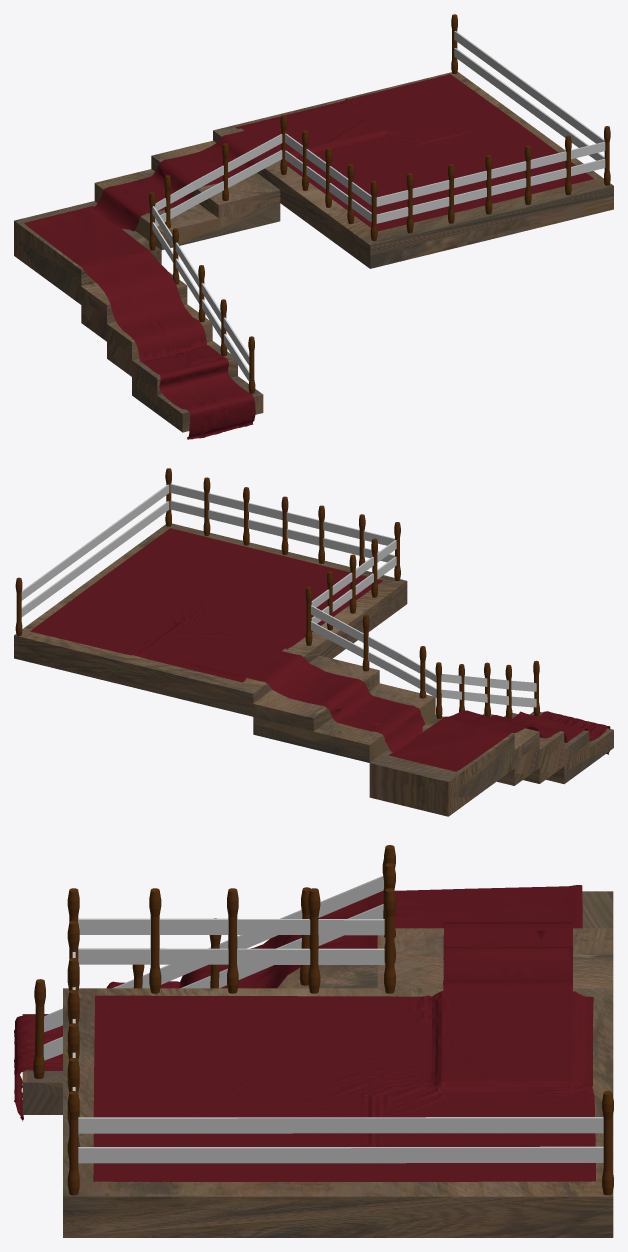
File: Stepenice.fbx
The picture shows the model from 3 angles, top to bottom: view 1: azimuth 30°, elevation 25°; view 2: azimuth 150°, elevation 25°; view 3: azimuth 270°, elevation 25°; orthographic projection. The views are drawn at different scales.
Parts seen in each view (by area): view 1: Cube.002, Plane.012, Plane.008, Plane.009, Plane.007, Plane.006, Plane.010, Plane.011, Plane.003, Plane.002, Plane, Plane.001 (+2 smaller); view 2: Cube.002, Plane.012, Plane.009, Plane.008, Plane.007, Plane.006, Plane.011, Plane.010, Plane.002, Plane.003, Plane, Plane.001 (+2 smaller); view 3: Plane.012, Cube.002, Plane.008, Plane.009, Plane.010, Plane.011, Plane.005, Plane.004, Plane, Plane.001, Cylinder.017, Cylinder.007 (+6 smaller).
Part boxes in pixels (box(x1,y1,x2,y2)): Cube.002: box(14, 72, 613, 432); Plane.012: box(235, 74, 593, 231); Plane.008: box(24, 206, 255, 439); Plane.009: box(92, 131, 274, 231); Plane.007: box(376, 142, 605, 206); Plane.006: box(376, 159, 605, 223); Plane.010: box(454, 31, 604, 143); Plane.011: box(454, 48, 604, 160); Plane.003: box(155, 134, 282, 210); Plane.002: box(155, 150, 282, 226); Plane: box(152, 206, 249, 365); Plane.001: box(152, 222, 249, 381); Cube.002: box(14, 523, 613, 816); Plane.012: box(30, 528, 382, 682); Plane.009: box(247, 651, 425, 752); Plane.008: box(389, 710, 610, 771); Plane.007: box(170, 484, 394, 545); Plane.006: box(170, 500, 394, 562); Plane.011: box(21, 501, 169, 617); Plane.010: box(21, 484, 169, 600); Plane.002: box(311, 621, 436, 697); Plane.003: box(311, 605, 436, 682); Plane: box(441, 674, 536, 691); Plane.001: box(441, 689, 536, 707); Plane.012: box(93, 991, 595, 1181); Cube.002: box(22, 891, 613, 1237); Plane.008: box(14, 885, 582, 1121); Plane.009: box(443, 922, 572, 991); Plane.010: box(78, 1117, 603, 1133); Plane.011: box(78, 1146, 603, 1163); Plane.005: box(78, 948, 384, 964); Plane.004: box(78, 918, 384, 935); Plane: box(44, 876, 383, 1032); Plane.001: box(43, 904, 383, 1060); Cylinder.017: box(67, 1091, 79, 1195); Cylinder.007: box(384, 888, 395, 993).
Bounding box in the file's own units: 450 × 193 × 301.
